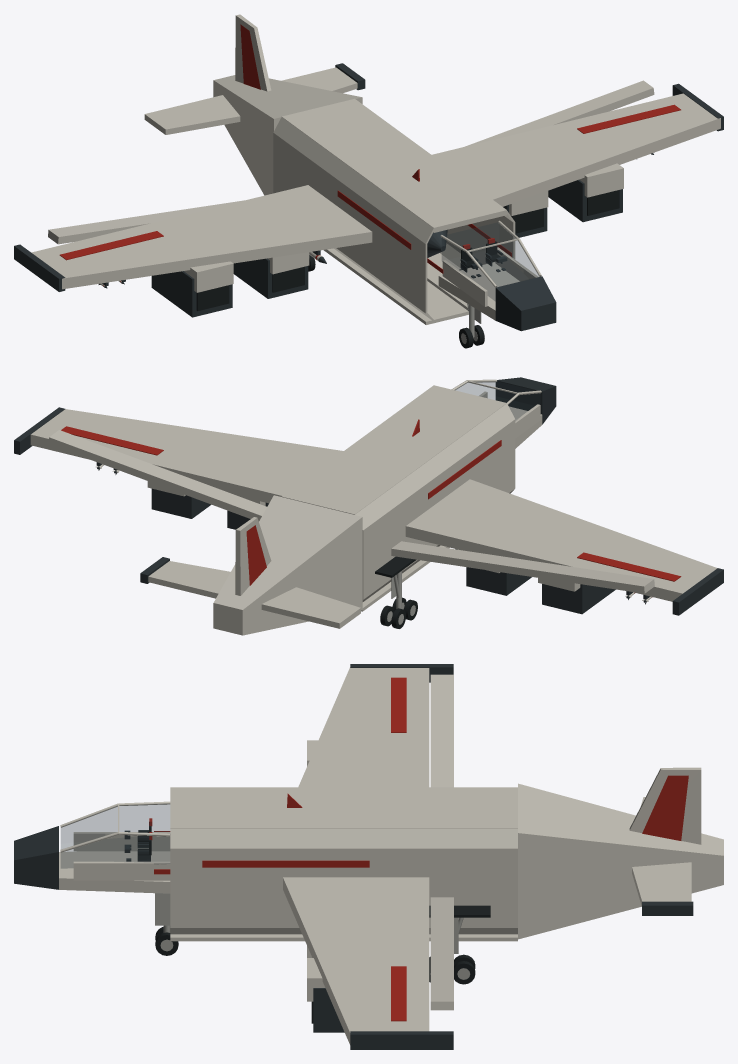
3 renders of one model, top to bottom at view 1: azimuth 30°, elevation 25°; view 2: azimuth 150°, elevation 25°; view 3: azimuth 270°, elevation 25°, orthographic. The views are drawn at different scales.
Visible parts, largest first — view 1: bomber-painted, bomber-glazing, flap-right-painted, bomber-bay-door-left-painted, flap-left-painted, crew-seating-batch-painted, bomber-bay-door-right-painted; view 2: bomber-painted, flap-left-painted, flap-right-painted, bomber-glazing, bomber-bay-door-left-painted; view 3: bomber-painted, bomber-glazing, flap-right-painted, flap-left-painted, bomber-bay-door-right-painted, breakaway-1-painted, crew-seating-batch-painted.
Part boxes in pixels (x1=…): bomber-painted: x1=14, y1=14, x2=723, y2=331; bomber-glazing: x1=442, y1=222, x2=539, y2=300; flap-right-painted: x1=465, y1=80, x2=654, y2=146; bomber-bay-door-left-painted: x1=323, y1=248, x2=468, y2=324; flap-left-painted: x1=48, y1=200, x2=244, y2=244; crew-seating-batch-painted: x1=460, y1=238, x2=507, y2=278; bomber-bay-door-right-painted: x1=427, y1=253, x2=468, y2=310; bomber-painted: x1=14, y1=377, x2=723, y2=635; flap-left-painted: x1=391, y1=541, x2=654, y2=593; flap-right-painted: x1=48, y1=430, x2=266, y2=521; bomber-glazing: x1=456, y1=381, x2=540, y2=420; bomber-bay-door-left-painted: x1=361, y1=545, x2=449, y2=611; bomber-painted: x1=14, y1=664, x2=723, y2=1049; bomber-glazing: x1=61, y1=804, x2=169, y2=868; flap-right-painted: x1=430, y1=897, x2=453, y2=1010; flap-left-painted: x1=430, y1=674, x2=453, y2=787; bomber-bay-door-right-painted: x1=170, y1=934, x2=517, y2=941; breakaway-1-painted: x1=642, y1=901, x2=693, y2=915; crew-seating-batch-painted: x1=124, y1=818, x2=152, y2=861.
Size of the model in its own units: 195 by 44.83 by 158.
